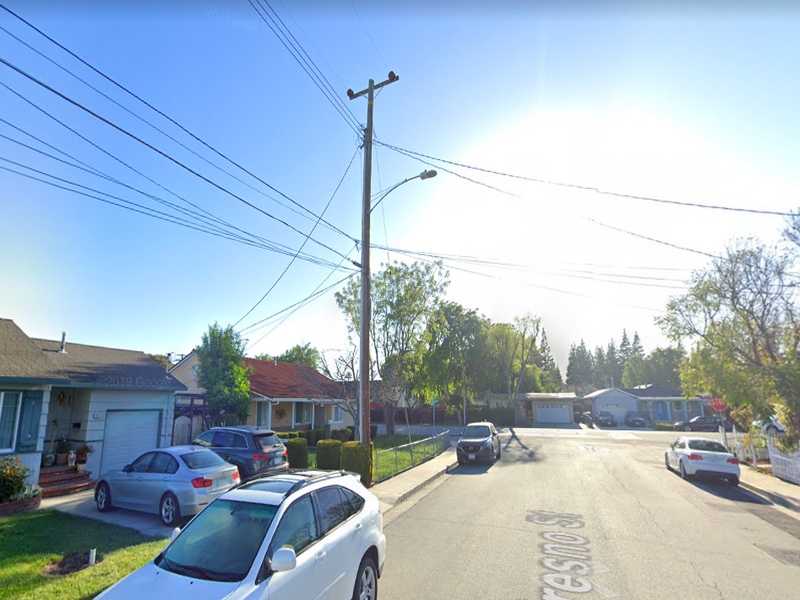utility_pole: (343, 62, 400, 164)
